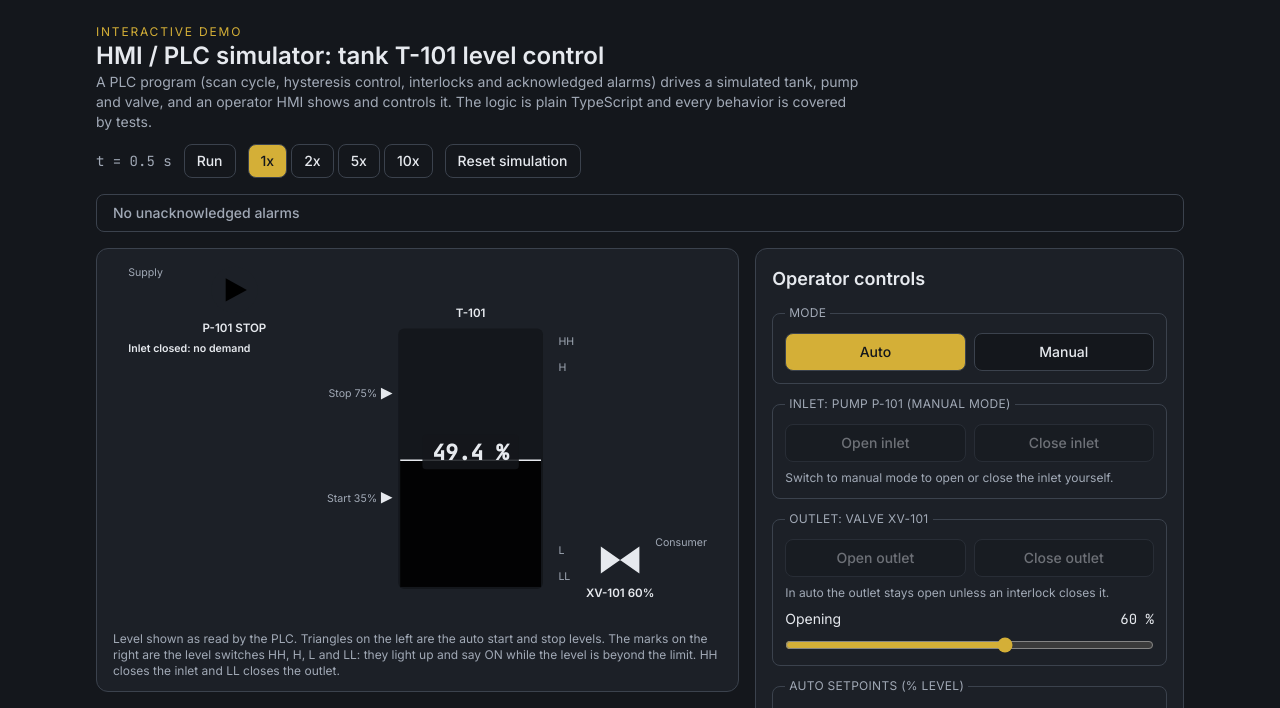
Test: manual operation › moves the outlet valve with the slider
userEvent cannot drag a range input, so fire the change event the browser would send
Set the slider labelled "Opening" to "25" at [881, 645], box 785,637 -> 1154,653
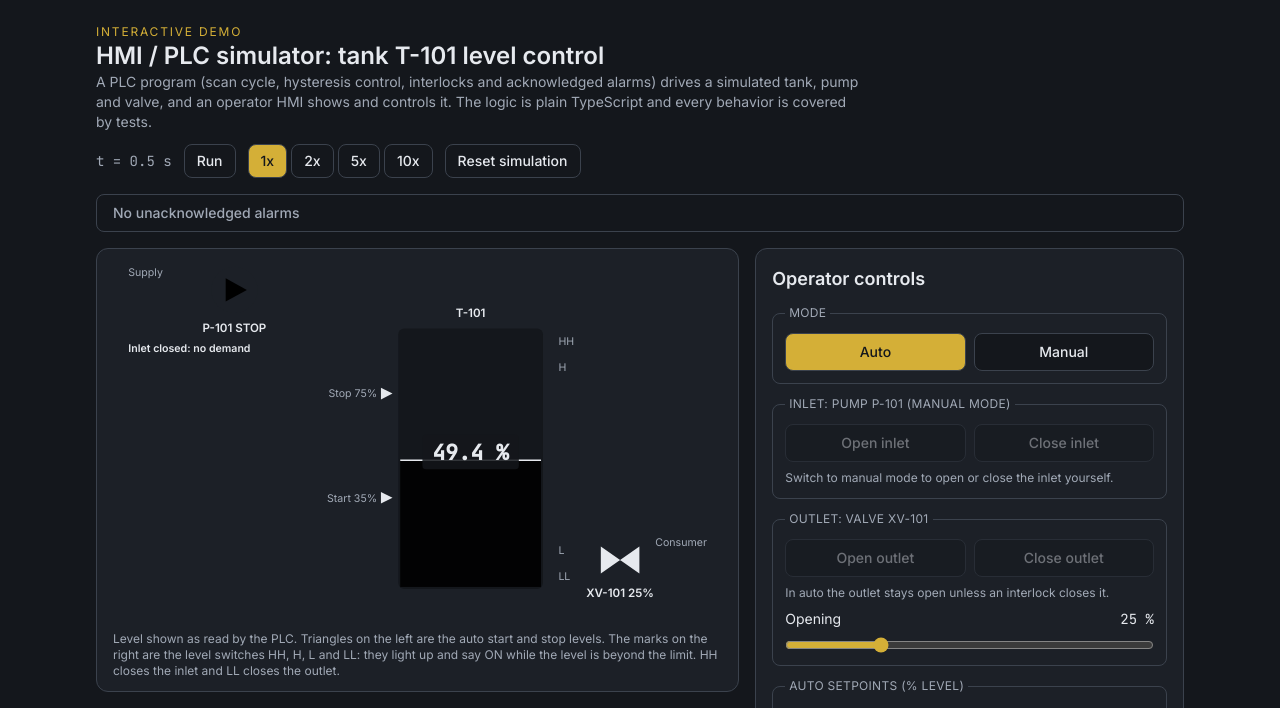
Expected: the text "XV-101 25%" is shown, 586,586 -> 654,600
Expected: the text "25 %" is shown, 1120,609 -> 1154,629
